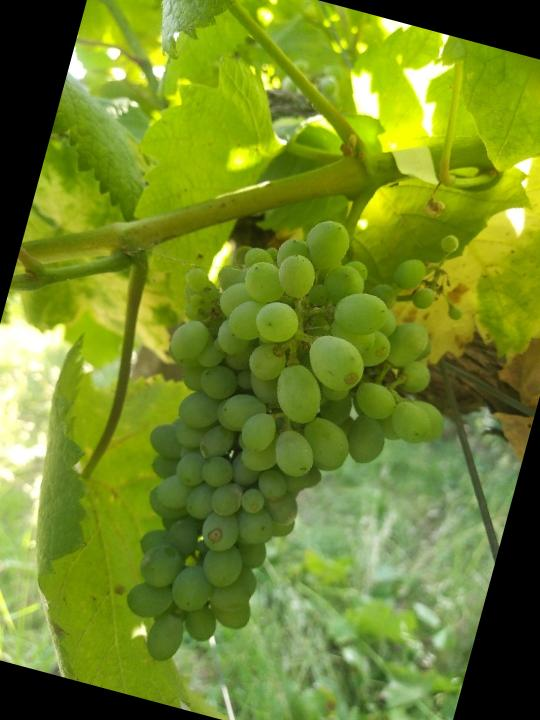grape: (82, 168, 499, 720)
